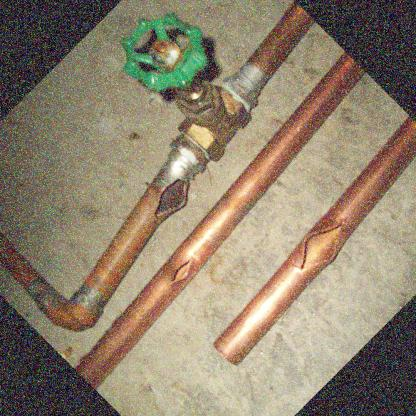burst: (297, 226, 348, 272), (152, 175, 190, 220), (171, 259, 202, 290)
